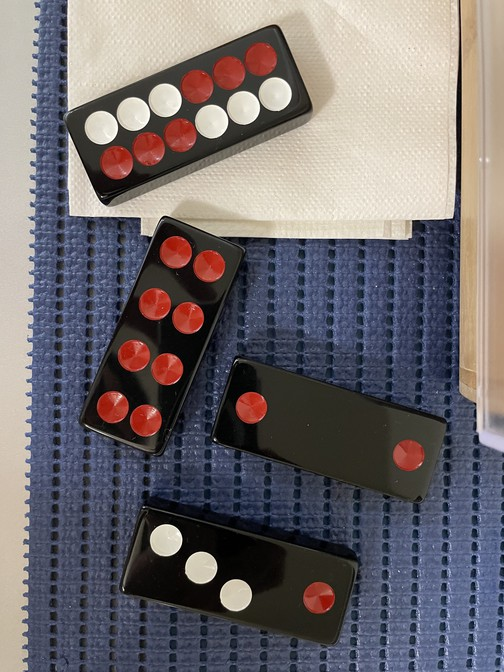earth: (214, 356, 451, 503)
goose: (115, 498, 364, 650)
heaven: (64, 26, 314, 206)
man: (81, 215, 237, 457)
